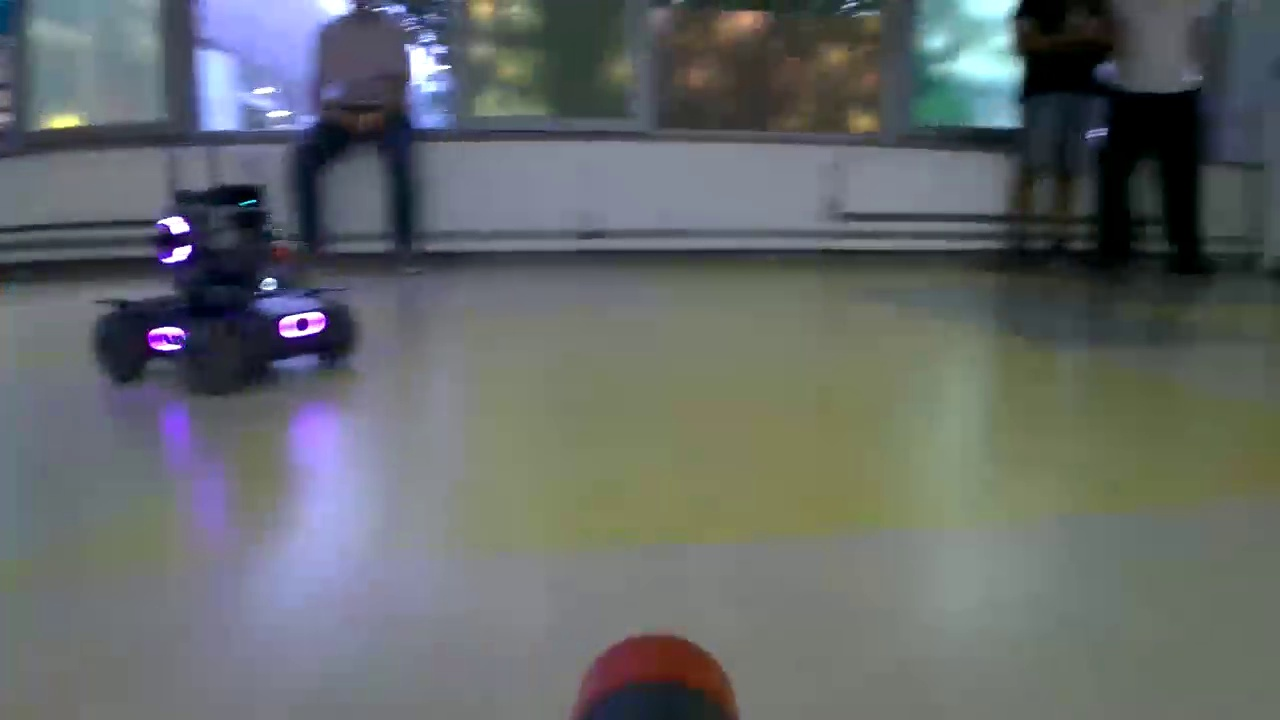robot: (106, 196, 368, 391)
